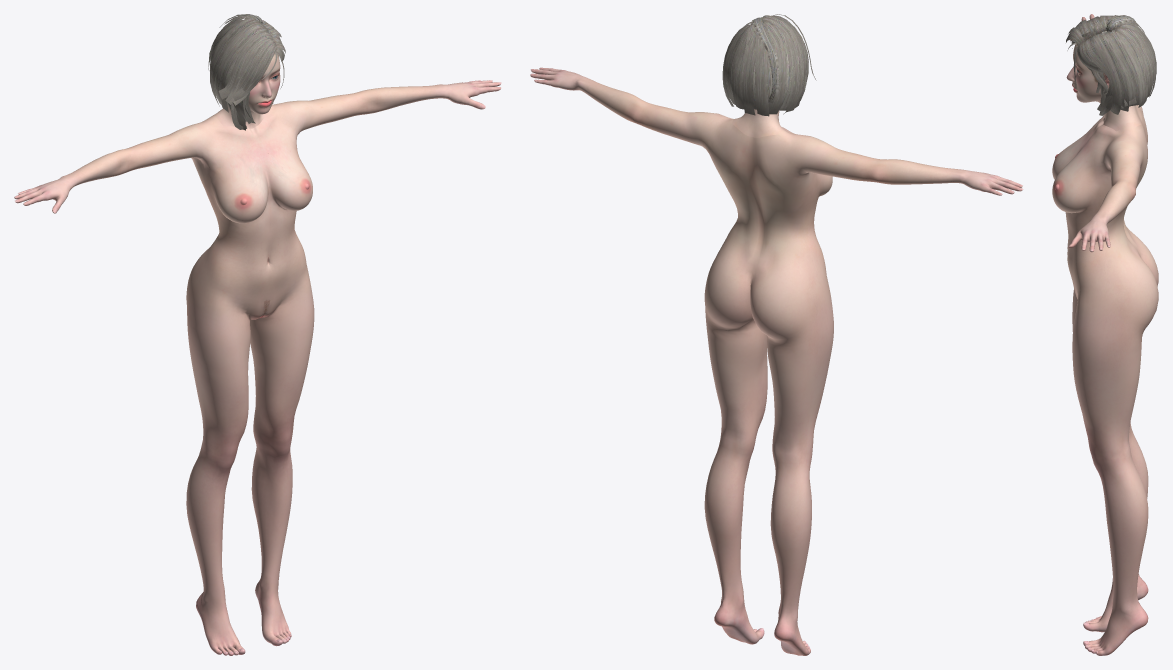
File: sarah.glb
3 renders of one model, left to right at view 1: azimuth 30°, elevation 25°; view 2: azimuth 150°, elevation 25°; view 3: azimuth 270°, elevation 25°, orthographic.
Visible parts, largest first — view 1: Object_4, Object_10, Object_6; view 2: Object_4, Object_10, Object_6; view 3: Object_4, Object_10, Object_6.
Boxes of the visible parts, x1,y1,x2,y2 form: Object_4: (14, 76, 501, 655); Object_10: (208, 14, 285, 130); Object_6: (214, 53, 280, 128); Object_4: (530, 67, 1023, 655); Object_10: (722, 14, 816, 116); Object_6: (732, 109, 786, 137); Object_4: (1052, 14, 1158, 655); Object_10: (1066, 15, 1156, 115); Object_6: (1066, 44, 1141, 131).
Size of the model in its own units: 1.4 by 1.72 by 0.2653.
4 materials, 4 textured.
